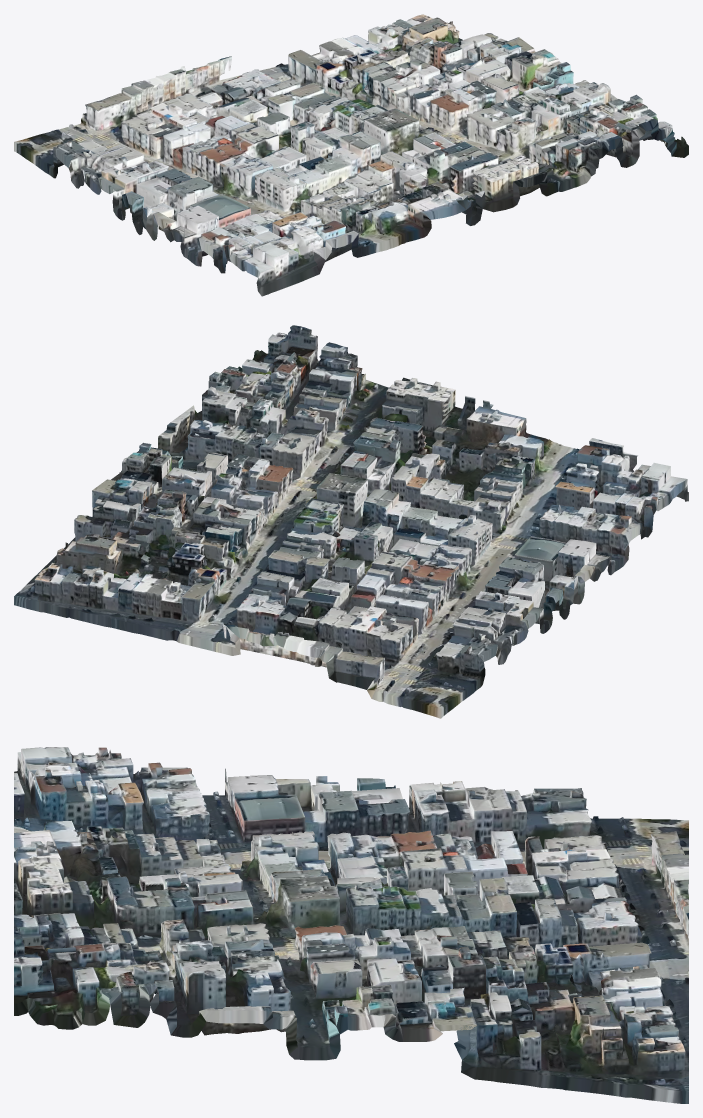
File: z17-20968-50649-h0-yup-uvflip-v3-world.glb
3 renders of one model, top to bottom at view 1: azimuth 30°, elevation 25°; view 2: azimuth 150°, elevation 25°; view 3: azimuth 270°, elevation 25°, orthographic. The views are drawn at different scales.
Bounding box in the file's own units: 241 × 64 × 243.
1 material, 1 textured.
